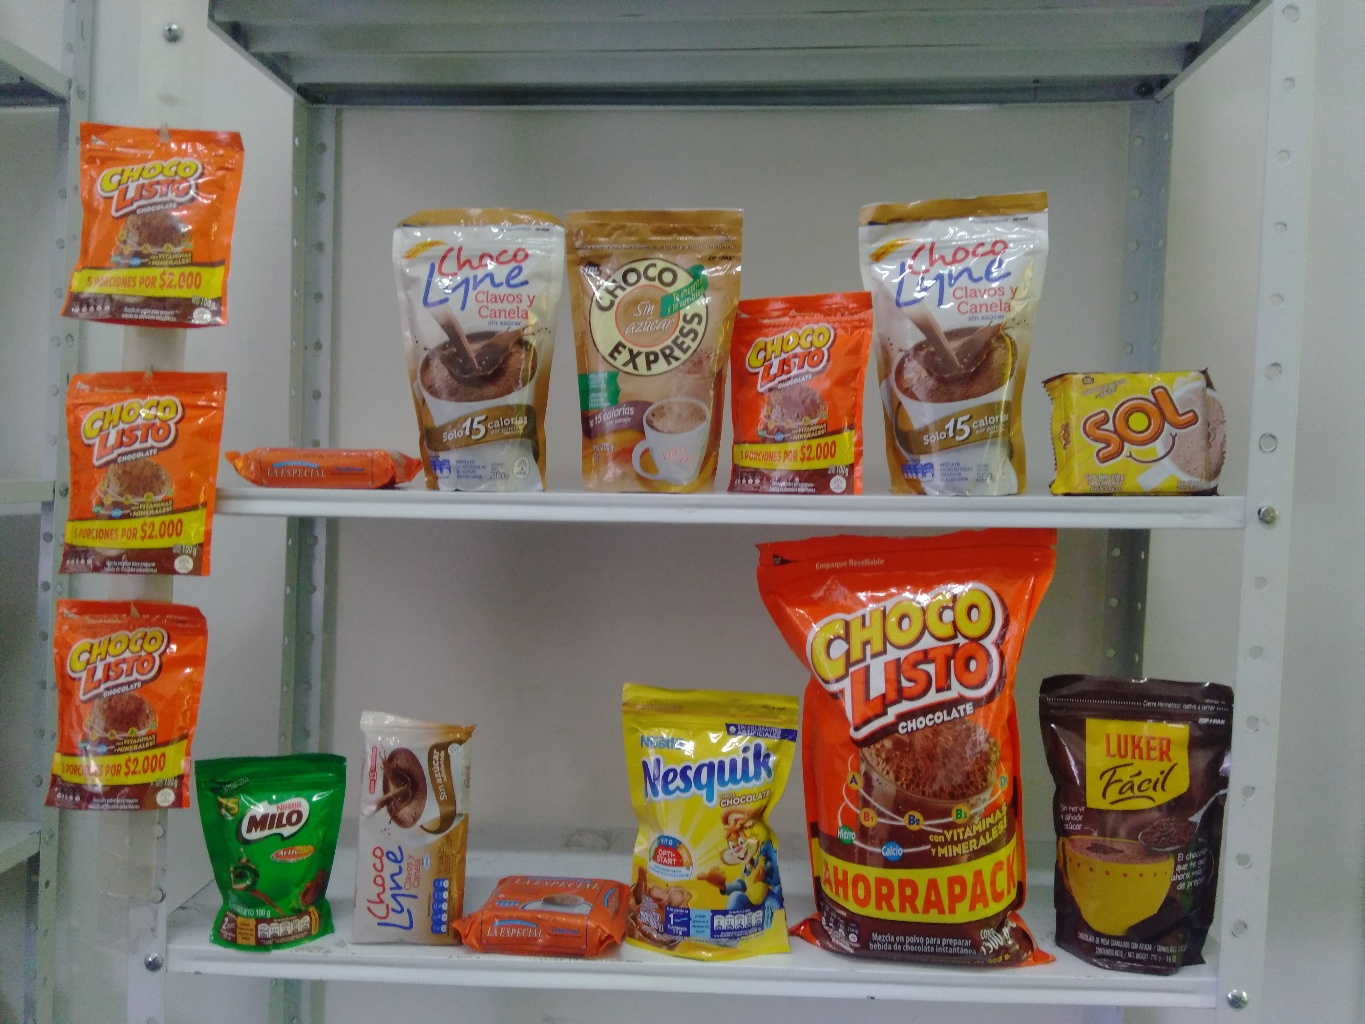COL0170203DYP10000: (197, 749, 347, 954)
COL0170303DYP20000: (618, 686, 813, 969)
